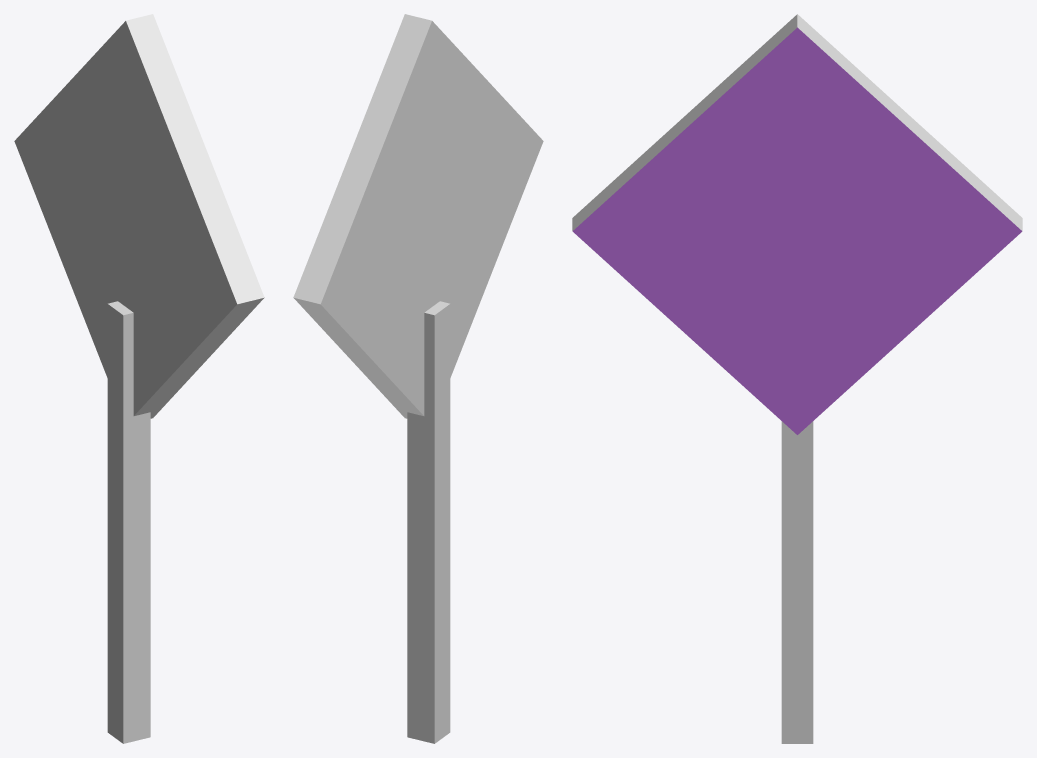
Rendered from warning_sign.fbx.
3 views of the same model, side by side, from view 1: azimuth 30°, elevation 25°; view 2: azimuth 150°, elevation 25°; view 3: azimuth 270°, elevation 25° (orthographic).
Parts seen in each view (by area): view 1: Cube.001, Cube; view 2: Cube.001, Cube; view 3: Cube.001, Cube.
Boxes of the visible parts, x1,y1,x2,y2 form: Cube.001: (14, 14, 264, 418); Cube: (107, 301, 150, 743); Cube.001: (293, 14, 543, 418); Cube: (407, 301, 450, 743); Cube.001: (572, 14, 1022, 434); Cube: (781, 421, 813, 743).
Bounding box in the file's own units: 27.61 × 500 × 283.
